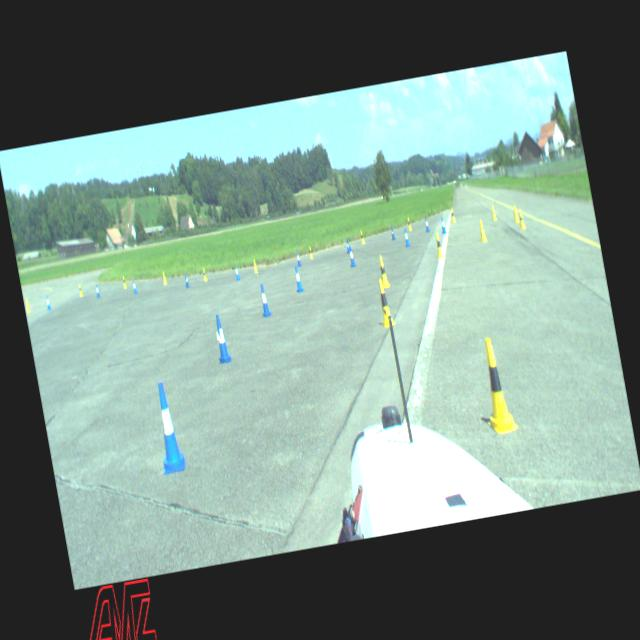blue_cone: (148, 379, 188, 474), (210, 313, 230, 363), (256, 282, 272, 318), (292, 264, 304, 292), (347, 245, 356, 267), (402, 226, 410, 247), (439, 215, 447, 234), (182, 272, 190, 288), (294, 250, 302, 266), (423, 215, 430, 232), (389, 224, 396, 240), (233, 264, 240, 280), (44, 294, 51, 310), (132, 278, 138, 294), (344, 237, 350, 253), (95, 283, 100, 297)
yellow_cone: (473, 334, 518, 436), (373, 277, 396, 327), (377, 254, 390, 288), (433, 230, 444, 258), (476, 218, 486, 242), (517, 207, 526, 229), (512, 204, 519, 222), (490, 203, 497, 220), (449, 207, 456, 223), (121, 274, 128, 289), (202, 266, 208, 282), (252, 257, 258, 273), (359, 229, 365, 244), (308, 244, 314, 259), (406, 216, 412, 230), (161, 270, 167, 284), (24, 298, 30, 312), (77, 283, 83, 296)
